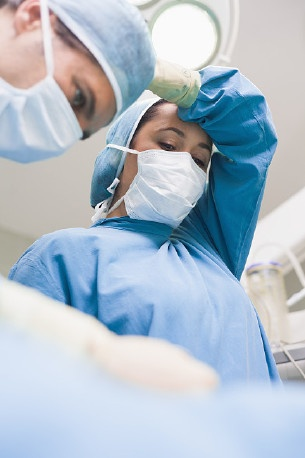Mask: (0, 43, 129, 171)
